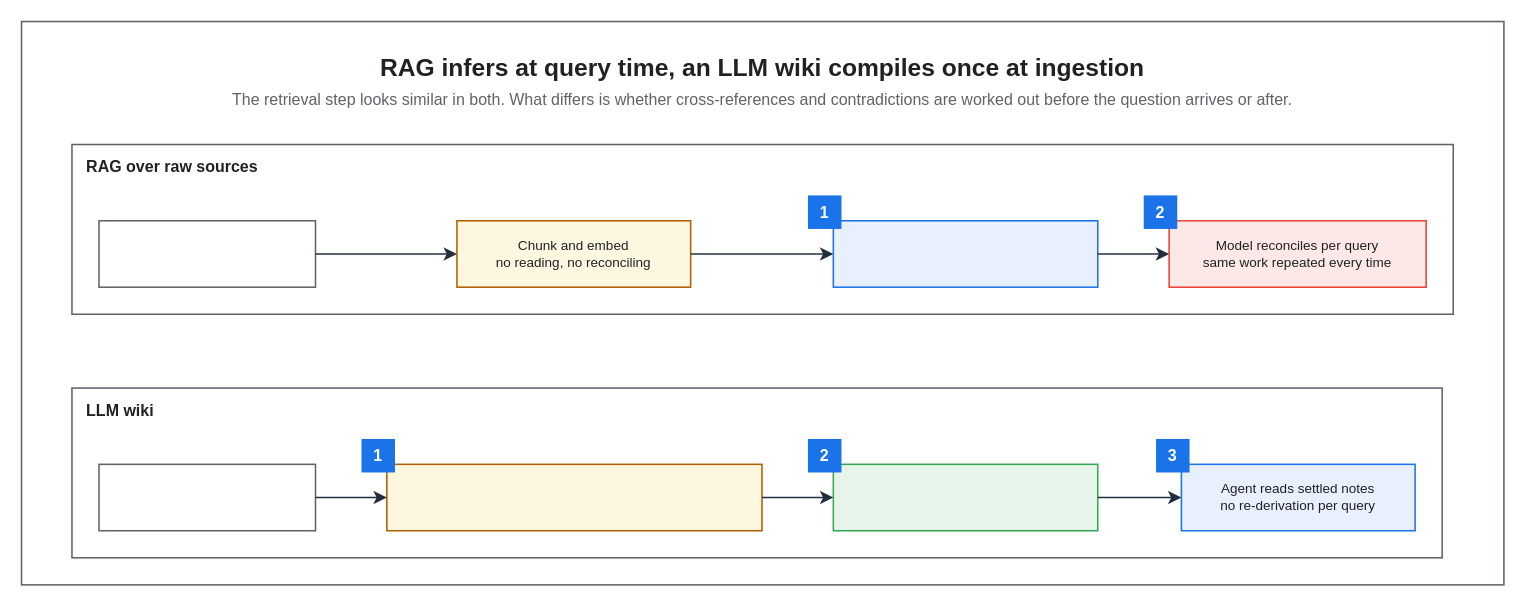
This 1526x608 diagram has some shape labels left out. The centre of each missing label's shape, as x and y in pixels:
Compile into notes cross-links and contradictions resolved once: pixel 573 497
Markdown wiki kept current, versioned in git: pixel 965 497
Raw sources docs, tickets, threads: pixel 207 253
Raw sources same inputs: pixel 207 497
Retrieve at query time relevant fragments, unresolved: pixel 965 253
